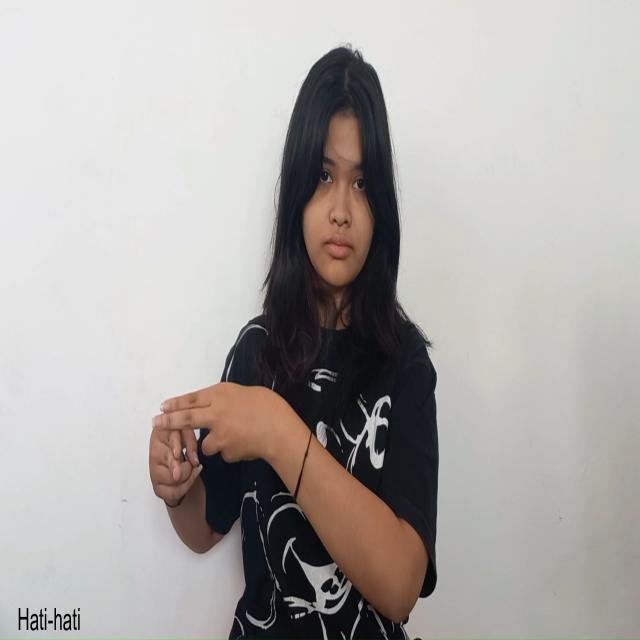Hati-hati -BISINDO-: (148, 380, 278, 500)
